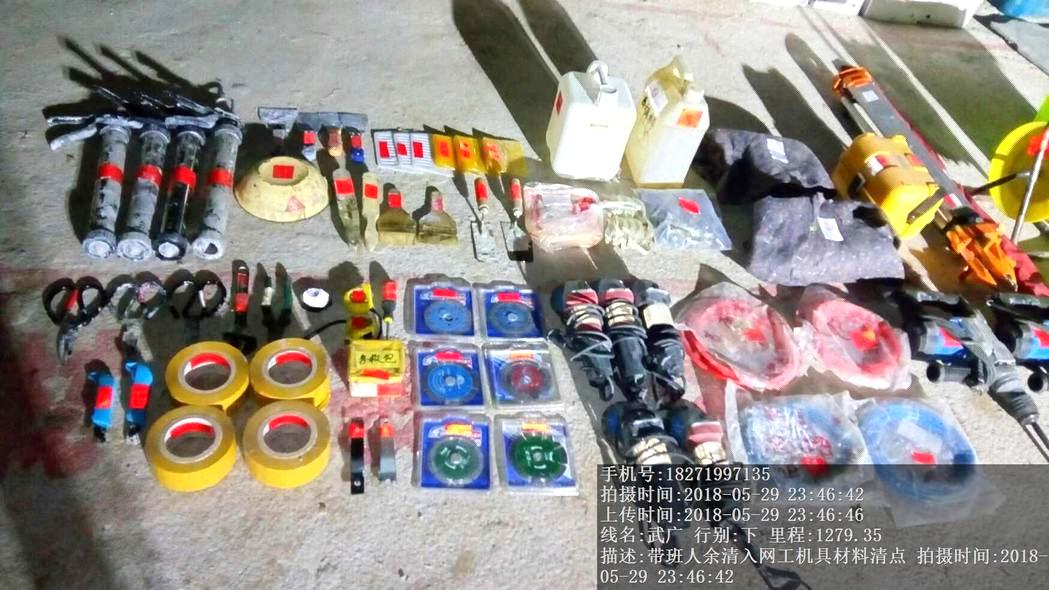DMJ: (545, 276, 623, 401), (629, 279, 690, 406)
